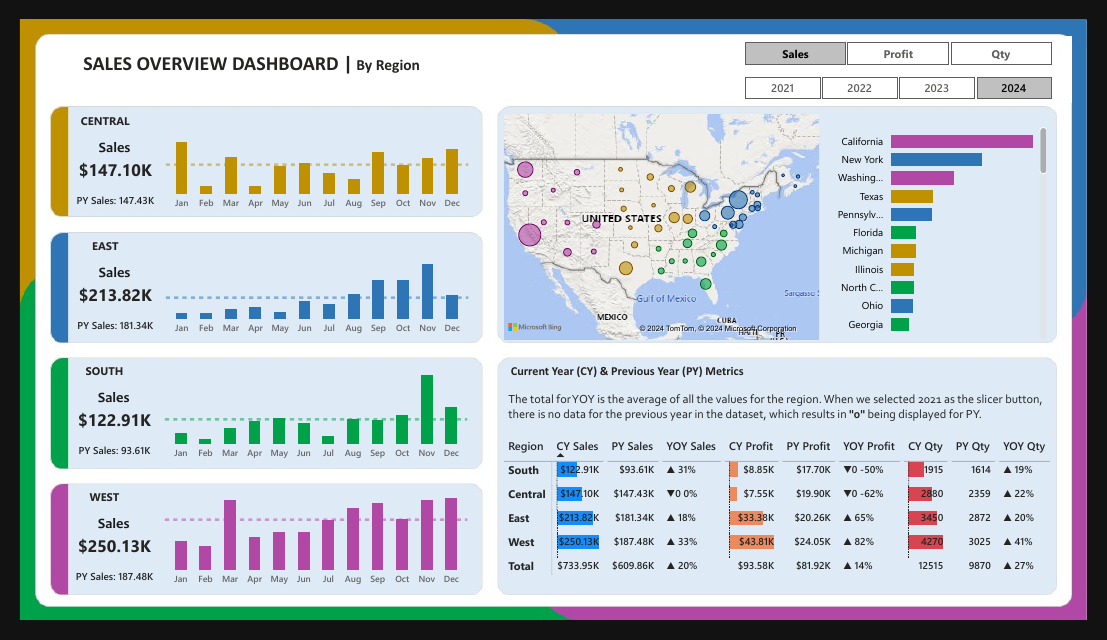

This screenshot's page, from the dashboard's own definition file:
{"tool":"powerbi","page":{"name":"SALES OVERVIEW","canvas":[1280,720],"ordinal":0},"visuals":[{"type":"slicer","fields":{"Values":["Select Metrics.Select Metrics"]},"box":[844.3,19.5,417.3,41.8],"z":0},{"type":"card","fields":{"Values":["Sales Data.Total Sales"]},"box":[59.3,163.4,110.9,37.9],"z":0,"group":"g1"},{"type":"card","fields":{"Values":["Sales Data.Total Sales"]},"box":[59.3,313.1,110.9,37.9],"z":0,"group":"g2"},{"type":"card","fields":{"Values":["Sales Data.Total Sales"]},"box":[58.4,462.9,110.9,37.9],"z":0,"group":"g3"},{"type":"card","fields":{"Values":["Sales Data.Total Sales"]},"box":[58.4,614.7,110.9,37.9],"z":0,"group":"g4"},{"type":"slicer","fields":{"Values":["Calendar.Year"]},"box":[844.3,61.3,417.3,38.9],"z":1000},{"type":"textbox","box":[62.2,108,80.7,31.1],"z":1000,"group":"g1"},{"type":"textbox","box":[62.2,257.7,80.7,31.1],"z":1000,"group":"g2"},{"type":"textbox","box":[61.3,407.5,80.7,31.1],"z":1000,"group":"g3"},{"type":"textbox","box":[61.3,559.3,80.7,31.1],"z":1000,"group":"g4"},{"type":"textbox","box":[43.1,33.2,481.2,38.6],"z":2000},{"type":"card","fields":{"Values":["Sales Data.Dynamic Title"]},"box":[77.8,139.1,72.9,31.1],"z":2000,"group":"g1"},{"type":"card","fields":{"Values":["Sales Data.Dynamic Title"]},"box":[77.8,288.8,72.9,31.1],"z":2000,"group":"g2"},{"type":"card","fields":{"Values":["Sales Data.Dynamic Title"]},"box":[76.9,438.6,72.9,31.1],"z":2000,"group":"g3"},{"type":"card","fields":{"Values":["Sales Data.Dynamic Title"]},"box":[76.9,590.4,72.9,31.1],"z":2000,"group":"g4"},{"type":"group","id":"g1","title":"Group 1","box":[59.3,108,484.4,130.3],"z":3000},{"type":"card","fields":{"Values":["Sales Data.PY KPI Sales"]},"box":[59.3,201.4,110.9,37],"z":3000,"group":"g1"},{"type":"card","fields":{"Values":["Sales Data.PY KPI Sales"]},"box":[59.3,351.1,110.9,37],"z":3000,"group":"g2"},{"type":"card","fields":{"Values":["Sales Data.PY KPI Sales"]},"box":[58.4,500.9,110.9,37],"z":3000,"group":"g3"},{"type":"card","fields":{"Values":["Sales Data.PY KPI Sales"]},"box":[58.4,652.7,110.9,37],"z":3000,"group":"g4"},{"type":"clusteredColumnChart","fields":{"Y":["Sales Data.Total Sales"],"Category":["Calendar.Month"]},"box":[170.2,108,373.5,130.3],"z":4000,"group":"g1"},{"type":"group","id":"g2","title":"Group 1","box":[59.3,257.7,484.8,131.1],"z":4000},{"type":"clusteredColumnChart","fields":{"Y":["Sales Data.Total Sales"],"Category":["Calendar.Month"]},"box":[170.2,257.7,373.5,130.3],"z":4000,"group":"g2"},{"type":"clusteredColumnChart","fields":{"Y":["Sales Data.Total Sales"],"Category":["Calendar.Month"]},"box":[169.3,407.5,373.5,130.3],"z":4000,"group":"g3"},{"type":"clusteredColumnChart","fields":{"Y":["Sales Data.Total Sales"],"Category":["Calendar.Month"]},"box":[169.3,559.3,373.5,130.3],"z":4000,"group":"g4"},{"type":"group","id":"g3","title":"Group 1","box":[58.4,407.5,485.3,131.3],"z":5000},{"type":"group","id":"g4","title":"Group 1","box":[58.4,559.3,485.3,131.3],"z":6000},{"type":"map","title":"Sales by State","fields":{"Size":["Sales Data.Total Sales"],"Category":["Sales Data.State/Province"],"Series":["Sales Data.Region"]},"box":[575.8,108,388.1,280.1],"z":7000},{"type":"barChart","fields":{"Y":["Sales Data.Total Sales"],"Category":["Sales Data.State/Province"],"Series":["Sales Data.Region"]},"box":[963.9,115.7,273.3,272.3],"z":8000},{"type":"pivotTable","fields":{"Rows":["Sales Data.Region"],"Values":["Sales Data.CY Sales","Sales Data.PY Sales","Sales Data.YOY Sales","Sales Data.CY Profit","Sales Data.PY Profit","Sales Data.YOY Profit","Sales Data.CY Qty","Sales Data.PY Qty","Sales Data.YOY Qty"]},"box":[575.8,497,666.3,185.8],"z":9000},{"type":"textbox","box":[583.6,407.5,294.7,33.1],"z":10000},{"type":"textbox","box":[580.7,440.6,661.4,49.6],"z":11000}]}

Visuals, with their boxes in screenshot pixels (x1, y1, x2, y2), scaled from the page's 1280x720 canvas onto the 1107x640 screenshot:
slicer - Select Metrics.Select Metrics: detection(730, 17, 1091, 54)
card - Sales Data.Total Sales: detection(51, 145, 147, 179)
card - Sales Data.Total Sales: detection(51, 278, 147, 312)
card - Sales Data.Total Sales: detection(51, 411, 146, 445)
card - Sales Data.Total Sales: detection(51, 546, 146, 580)
slicer - Calendar.Year: detection(730, 54, 1091, 89)
textbox: detection(54, 96, 124, 124)
textbox: detection(54, 229, 124, 257)
textbox: detection(53, 362, 123, 390)
textbox: detection(53, 497, 123, 525)
textbox: detection(37, 30, 453, 64)
card - Sales Data.Dynamic Title: detection(67, 124, 130, 151)
card - Sales Data.Dynamic Title: detection(67, 257, 130, 284)
card - Sales Data.Dynamic Title: detection(67, 390, 130, 418)
card - Sales Data.Dynamic Title: detection(67, 525, 130, 552)
"Group 1" group: detection(51, 96, 470, 212)
card - Sales Data.PY KPI Sales: detection(51, 179, 147, 212)
card - Sales Data.PY KPI Sales: detection(51, 312, 147, 345)
card - Sales Data.PY KPI Sales: detection(51, 445, 146, 478)
card - Sales Data.PY KPI Sales: detection(51, 580, 146, 613)
clusteredColumnChart - Sales Data.Total Sales x Calendar.Month: detection(147, 96, 470, 212)
"Group 1" group: detection(51, 229, 471, 346)
clusteredColumnChart - Sales Data.Total Sales x Calendar.Month: detection(147, 229, 470, 345)
clusteredColumnChart - Sales Data.Total Sales x Calendar.Month: detection(146, 362, 469, 478)
clusteredColumnChart - Sales Data.Total Sales x Calendar.Month: detection(146, 497, 469, 613)
"Group 1" group: detection(51, 362, 470, 479)
"Group 1" group: detection(51, 497, 470, 614)
"Sales by State" map: detection(498, 96, 834, 345)
barChart - Sales Data.Total Sales x Sales Data.State/Province: detection(834, 103, 1070, 345)
pivotTable - Sales Data.Region x Sales Data.CY Sales: detection(498, 442, 1074, 607)
textbox: detection(505, 362, 760, 392)
textbox: detection(502, 392, 1074, 436)
